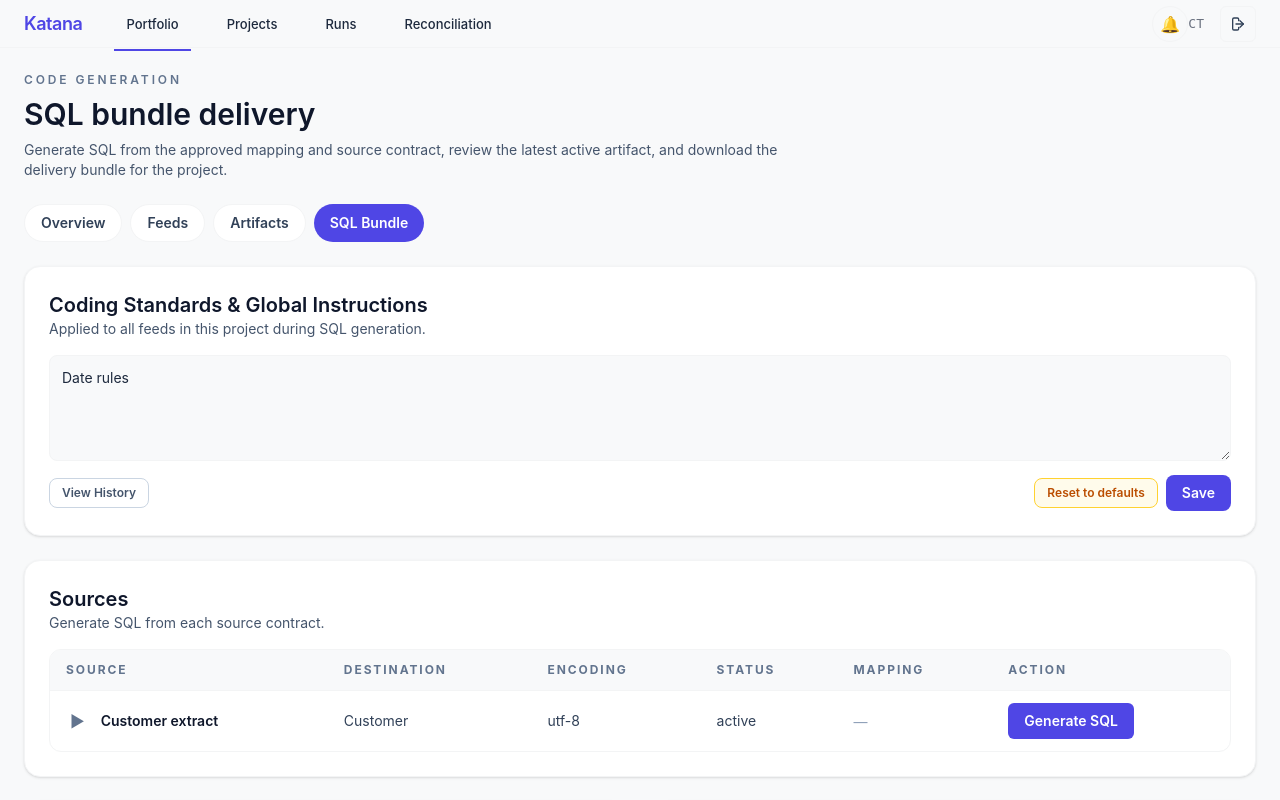
Scenario: CodegenPage › refreshes artifacts after generation
Expected: the text "Customer extract" is shown, [101,711,218,731]
Step 1. Click the button "Generate SQL" → (1071, 721), box [1008,703,1134,739]
(page scrolled)
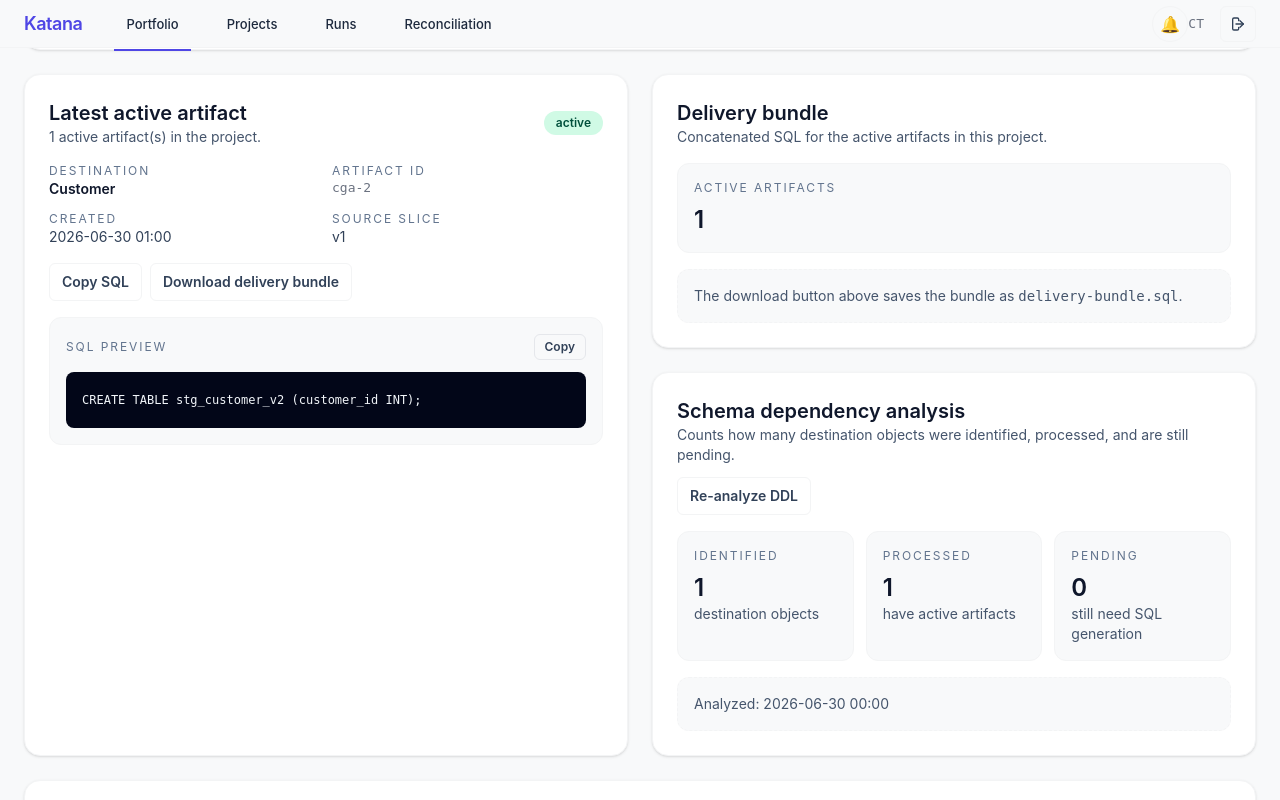
Now the text "CREATE TABLE stg_customer_v2 (customer_id INT);" is shown, box [66,372,586,428]
